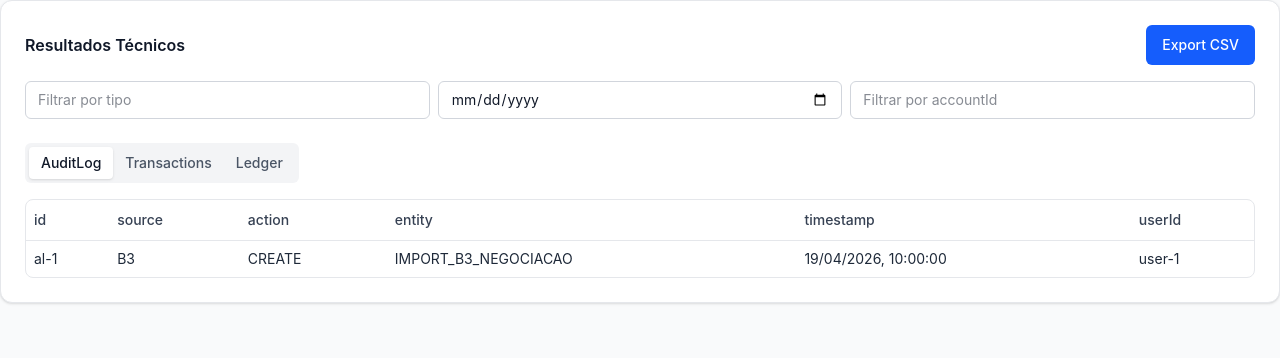
Test: ResultsTable › filtra por accountId na aba Transactions
This screenshot has width=1280, height=358.
Click the tab "Transactions".
click(169, 163)  # box [113,147,224,179]
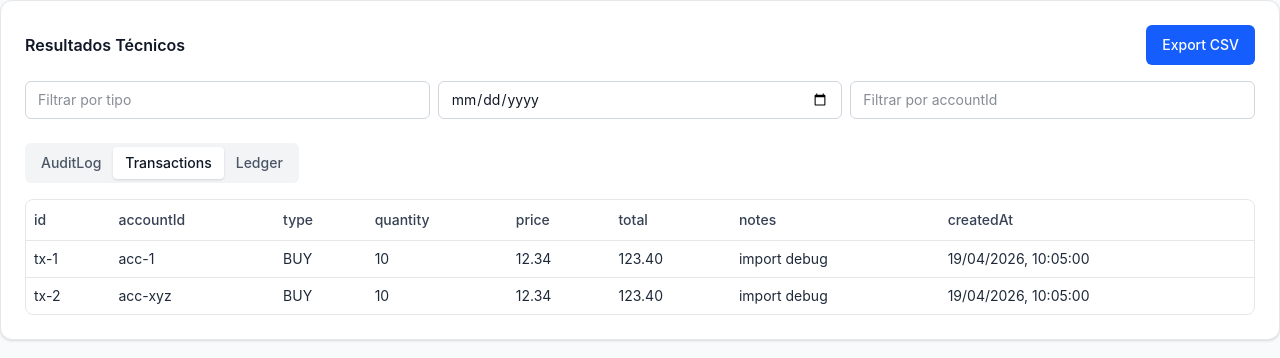
Type "xyz" into the field labelled "Filtrar por accountId".
click(1053, 100); type("xyz")  # box [850,81,1255,119]
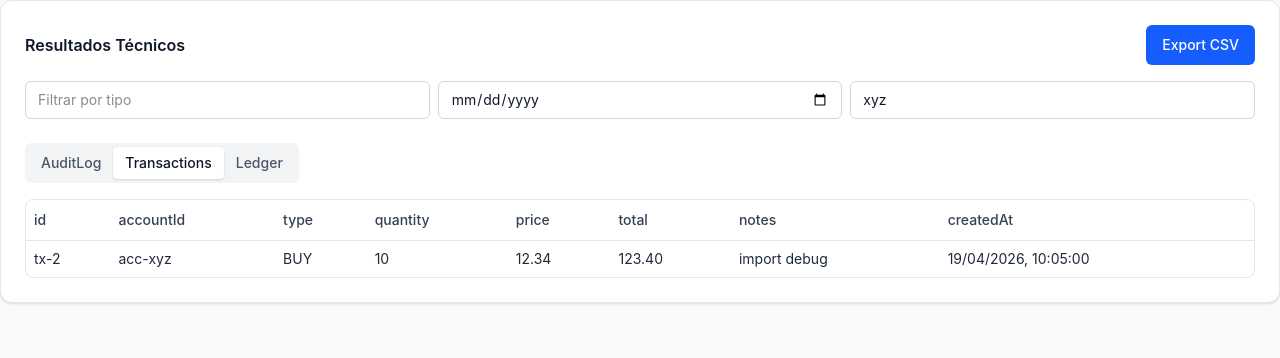
Check: the text "tx-2" is shown, box [26,240,110,276]
Check: the text "tx-1" is gone
